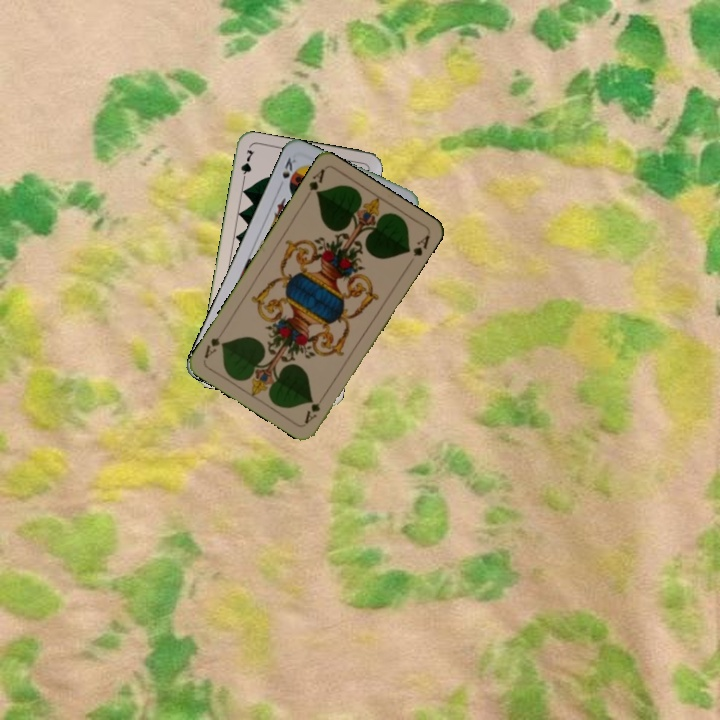G7: (237, 146, 257, 186)
GA: (300, 390, 328, 426), (305, 165, 327, 198)
SK: (275, 153, 299, 191)
